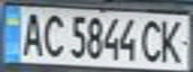4: (118, 15, 142, 62), (103, 15, 124, 61)
5: (66, 11, 87, 60)
8: (84, 12, 106, 61)
A: (15, 9, 48, 58)
C: (39, 10, 69, 60), (139, 16, 166, 64)
K: (157, 16, 190, 64)
